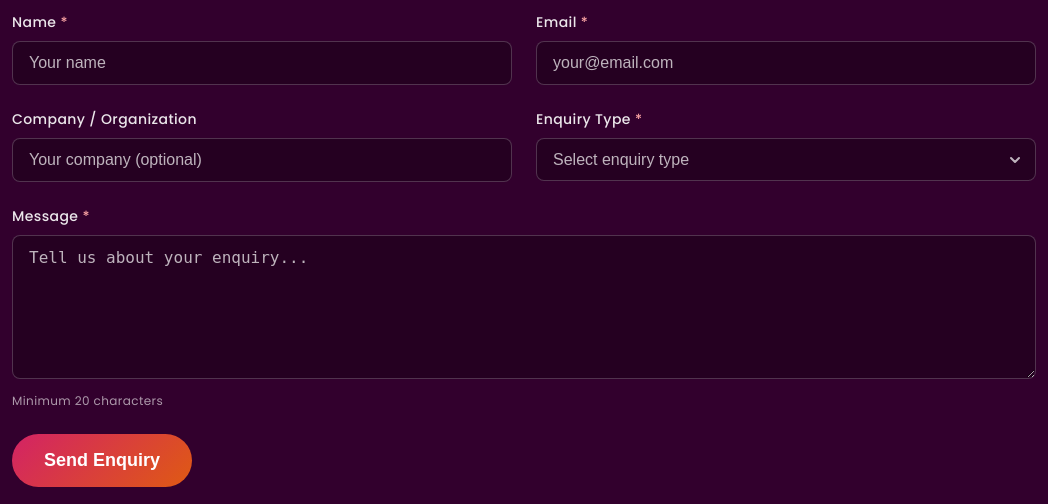
Test: EnquiryForm › shows success state after valid submission
This screenshot has width=1048, height=504.
Type "John Doe" into the field labelled "Name *" at (262, 63), box left=12, top=41, right=512, bottom=85
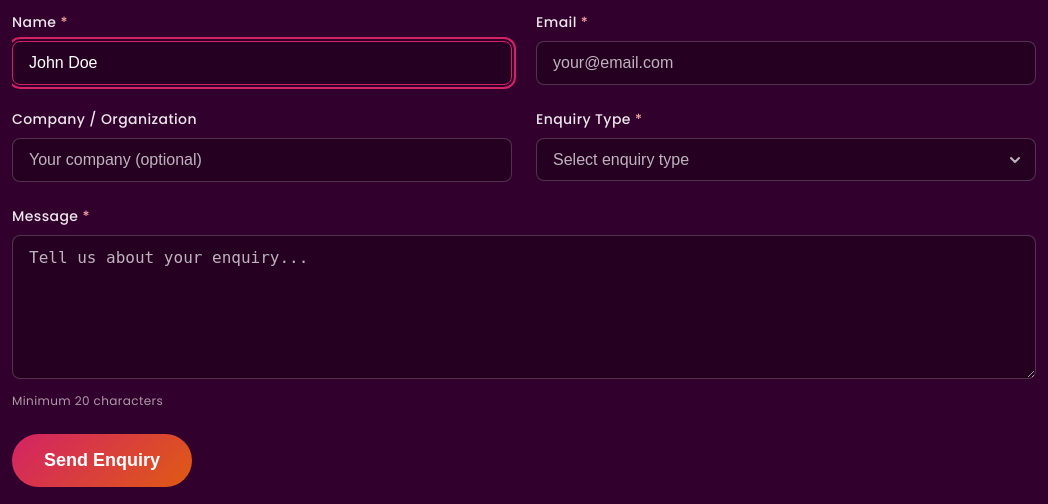
Type "john@example.com" into the field labelled "Email *" at (786, 63), box left=536, top=41, right=1036, bottom=85
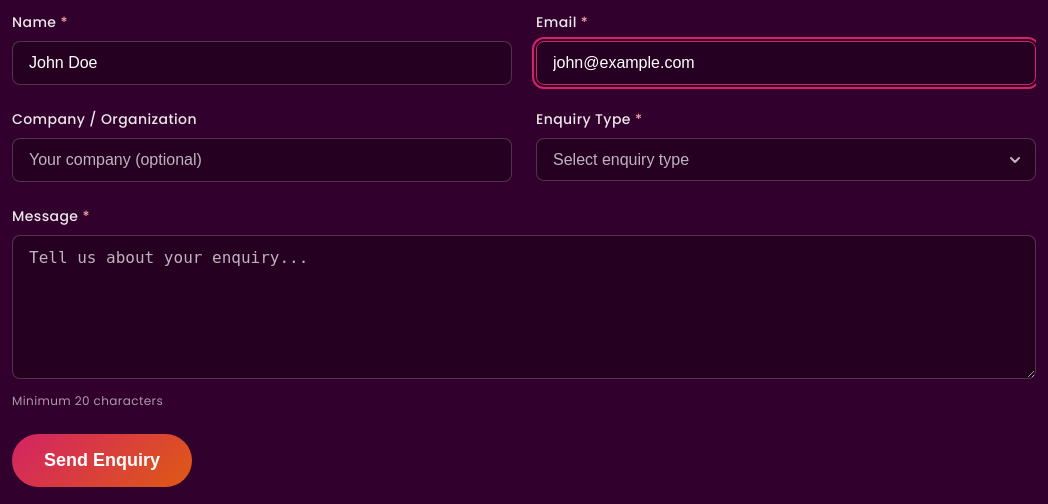
Select "Other" in the dropdown labelled "Enquiry Type *" at (786, 160), box left=536, top=138, right=1036, bottom=181
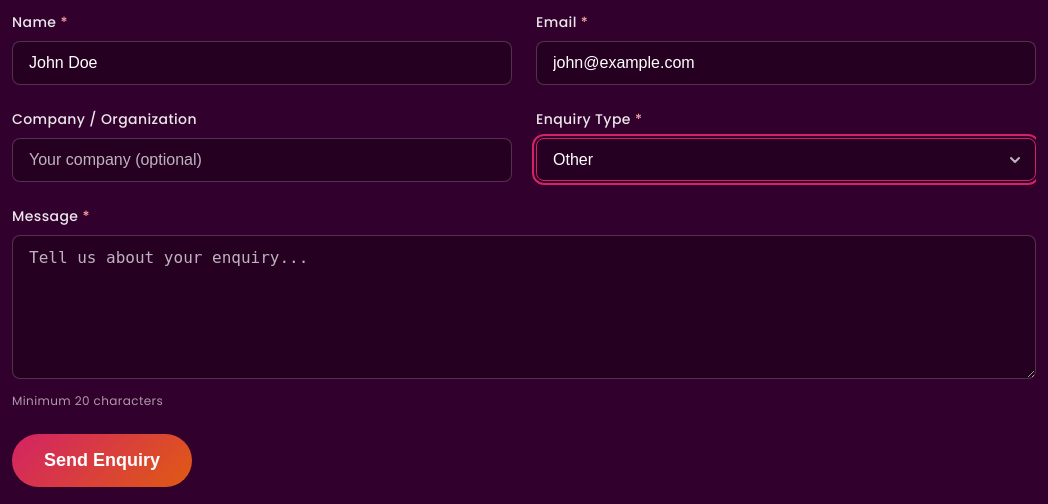
Type "This is a test message that is long enough to pass validation checks." into the text box labelled "Message *" at (524, 307), box left=12, top=235, right=1036, bottom=379
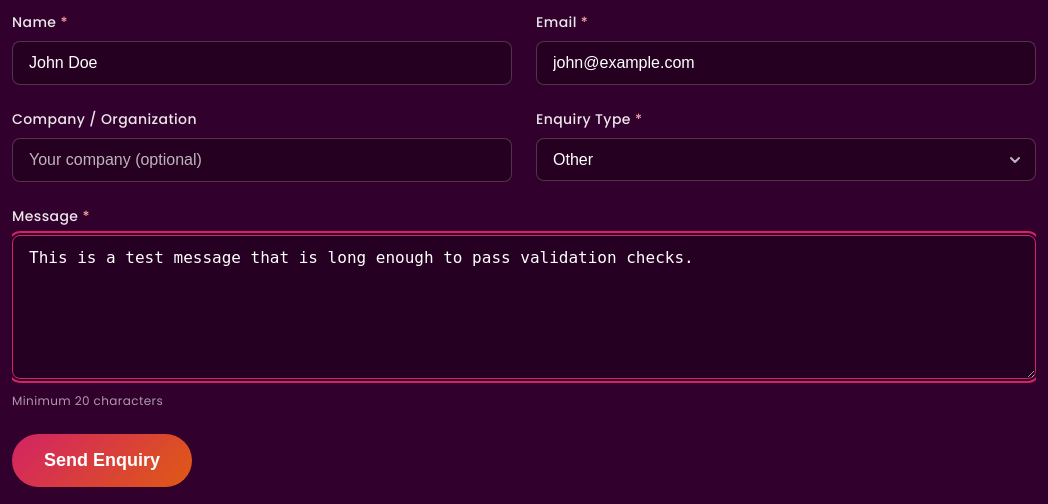
Click the button "Send Enquiry" at (102, 460), box left=12, top=434, right=192, bottom=487
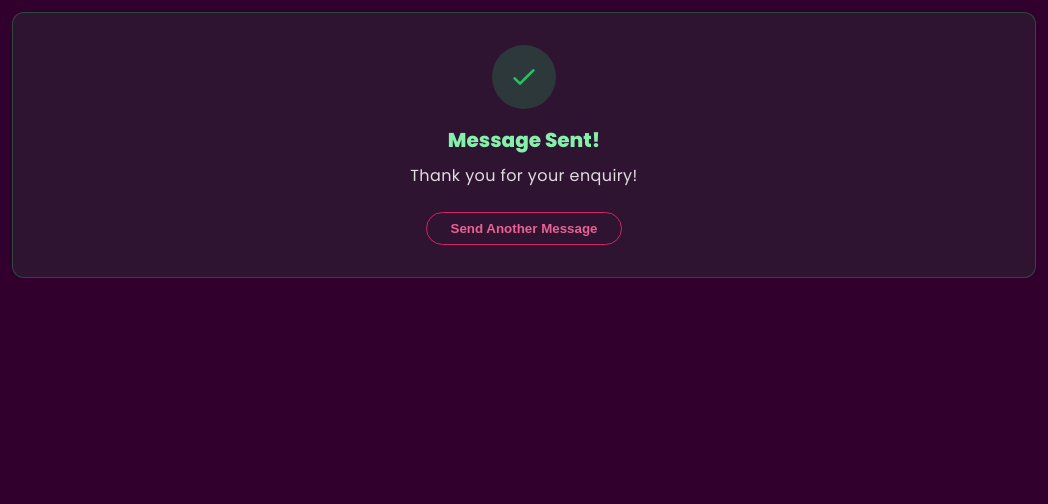
Check: the heading "Message Sent!" is shown, box left=448, top=126, right=600, bottom=154
